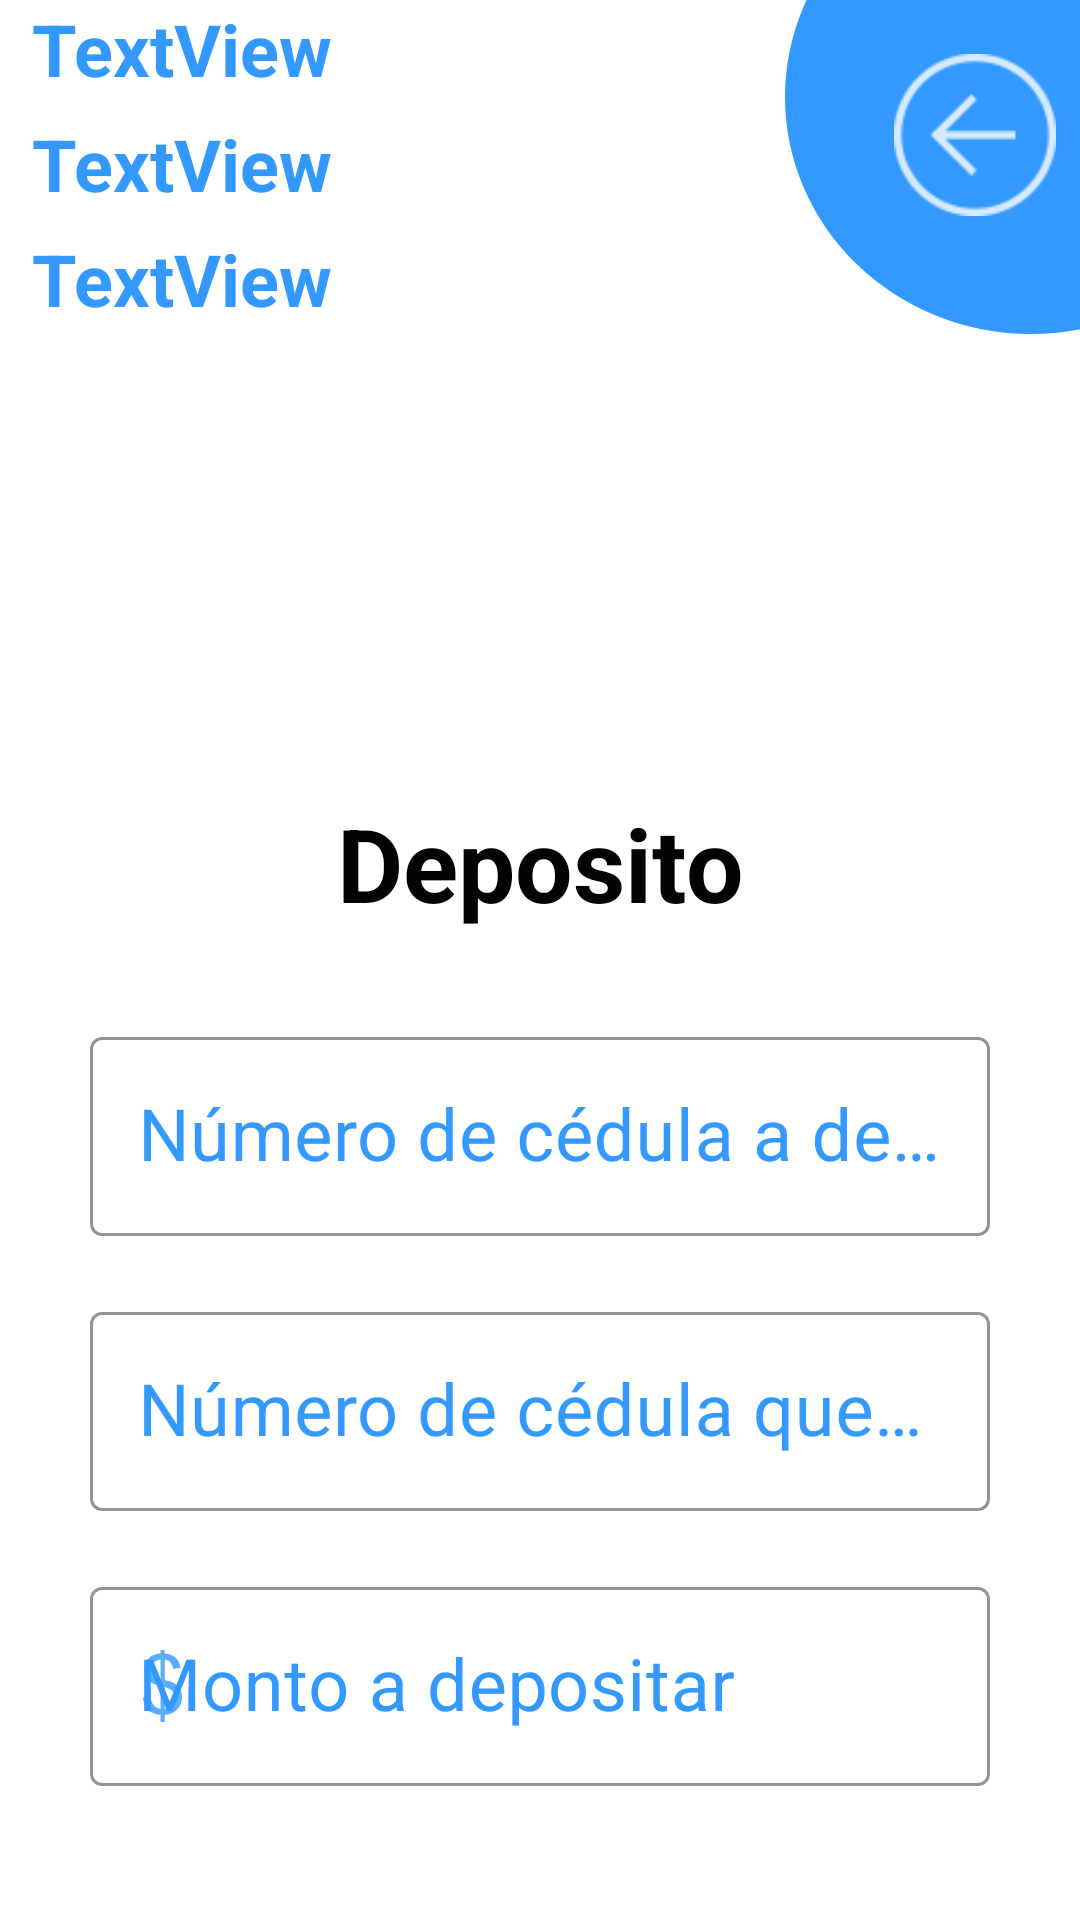

Point at icon controls on the screen. Image size 1080*1920, points as point (x, y).
arrowback: point (975, 135)
